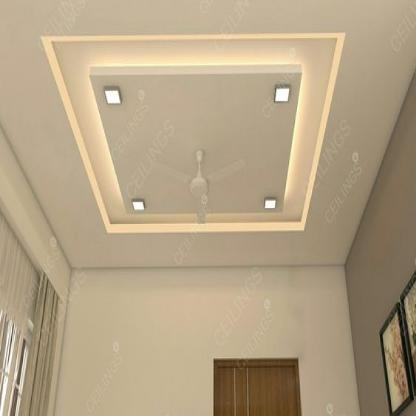Gypsum Board: (0, 0, 416, 267)
